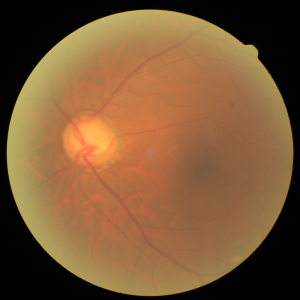glaucoma: (34, 99, 210, 207)
